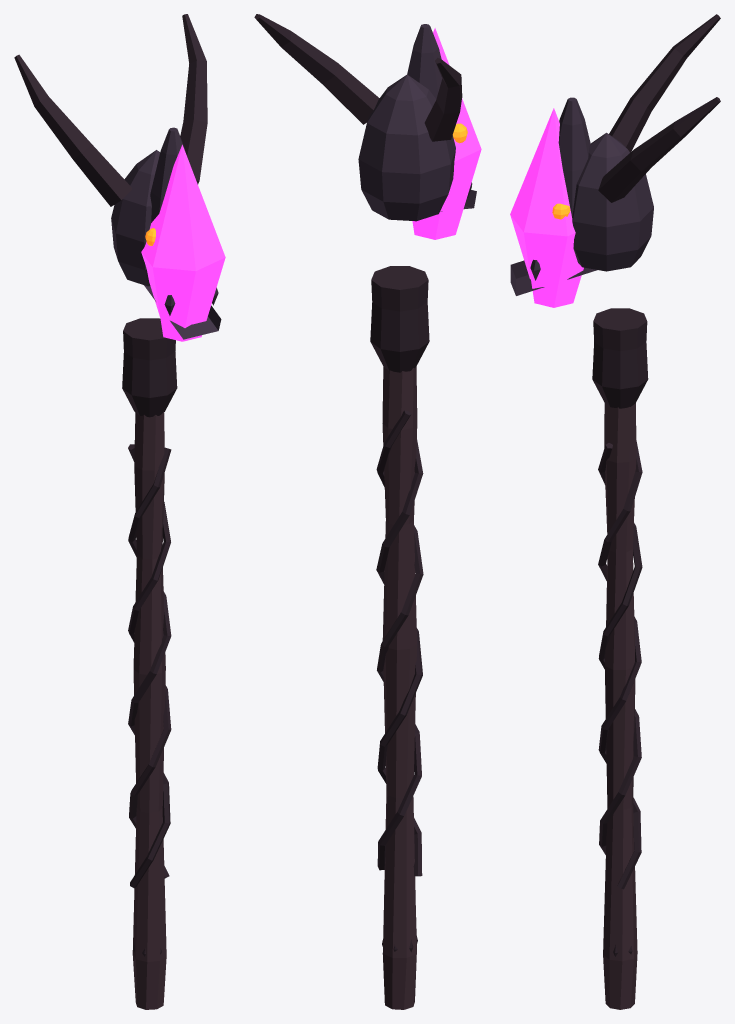
File: staff_dragonfang.glb
3 renders of one model, left to right at view 1: azimuth 30°, elevation 25°; view 2: azimuth 150°, elevation 25°; view 3: azimuth 270°, elevation 25°, orthographic. The views are drawn at different scales.
Visible parts, largest first — view 1: Df_Shaft, Df_Gem, Df_Neck, Df_Skull, Df_Horn0, Df_Horn1, Df_Vine1, Df_Vine0, Df_Snout, Df_Jaw; view 2: Df_Shaft, Df_Skull, Df_Neck, Df_Horn1, Df_Gem, Df_Vine0, Df_Vine1, Df_Horn0, Df_Snout; view 3: Df_Shaft, Df_Gem, Df_Skull, Df_Neck, Df_Horn0, Df_Horn1, Df_Vine0, Df_Vine1, Df_Snout, Df_Jaw.
Part boxes in pixels (x1,y1,x2,y2): Df_Shaft: [132, 411, 166, 1009]; Df_Gem: [141, 144, 225, 341]; Df_Neck: [122, 318, 177, 417]; Df_Skull: [111, 150, 160, 286]; Df_Horn0: [14, 54, 131, 206]; Df_Horn1: [180, 14, 207, 184]; Df_Vine1: [128, 447, 171, 888]; Df_Vine0: [128, 444, 171, 878]; Df_Snout: [150, 127, 184, 222]; Df_Jaw: [144, 285, 221, 339]; Df_Shaft: [382, 366, 417, 1009]; Df_Skull: [358, 74, 455, 221]; Df_Neck: [370, 266, 429, 372]; Df_Horn1: [254, 14, 379, 124]; Df_Gem: [412, 28, 481, 239]; Df_Vine0: [376, 410, 423, 870]; Df_Vine1: [376, 438, 423, 876]; Df_Horn0: [424, 57, 462, 141]; Df_Snout: [407, 24, 442, 98]; Df_Shaft: [603, 403, 637, 1009]; Df_Gem: [510, 108, 583, 307]; Df_Skull: [572, 132, 653, 271]; Df_Neck: [592, 308, 648, 408]; Df_Horn0: [609, 14, 720, 152]; Df_Horn1: [598, 97, 720, 202]; Df_Vine0: [598, 440, 642, 889]; Df_Vine1: [598, 443, 642, 854]; Df_Snout: [558, 97, 590, 217]; Df_Jaw: [510, 260, 597, 295].
Size of the model in its own units: 0.4428 by 2.28 by 0.4606.
